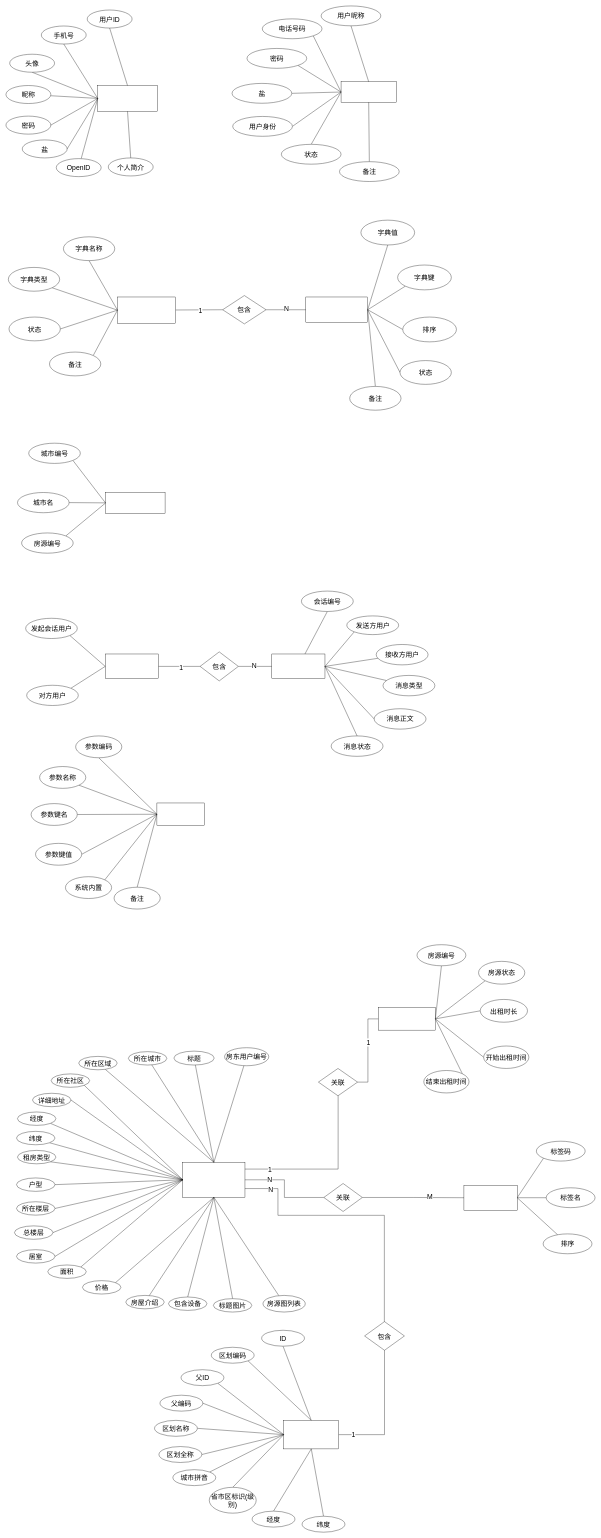
Image size: 601x1538. Some labels were removed from this diagram. Here are the shapes that lost their labels. From the top down, the centre of each, then its label:
At point (127, 98): "C端用户".
At point (368, 91): "B端用户".
At point (146, 310): "字典类型类".
At point (336, 309): "字典条目详情".
At point (135, 503): "房源-城市类".
At point (131, 666): "聊天会话类".
At point (298, 666): "聊天内容类".
At point (180, 814): "系统参数类".
At point (406, 1018): "房源出租状态".
At point (213, 1179): "房源".
At point (490, 1197): "房源标签".
At point (311, 1434): "行政区域类".
